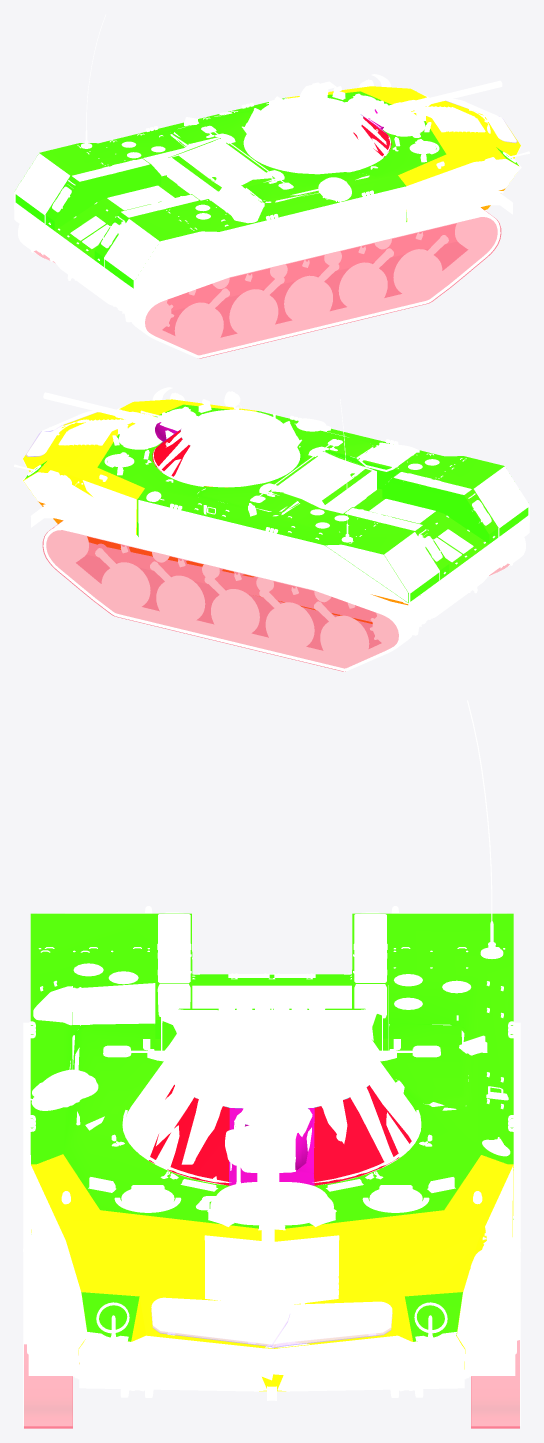
Rendered from BMD1M.gltf.
3 renders of one model, top to bottom at view 1: azimuth 30°, elevation 25°; view 2: azimuth 150°, elevation 25°; view 3: azimuth 270°, elevation 25°, orthographic. The views are drawn at different scales.
Parts seen in each view (by area): view 1: 43, 43_1, bmd1m_track_col_Right_41, bmd1m_col, 43_2, 43_6, bmd1m_col_1, 43_8, 43_7; view 2: 43, 43_1, bmd1m_track_col_Left_44, bmd1m_col, 43_3, 43_6, bmd1m_col_1, 43_8, 43_7, bmd1m_col_2, bmd1m_turret_col_1; view 3: bmd1m_col, 43, bmd1m_col_1, 43_1, 43_6, bmd1m_turret_col_1, 43_8, 43_3, 43_2, 43_7, bmd1m_track_col_Left_44, bmd1m_track_col_Right_41 (+1 smaller).
Boxes of the visible parts, x1,y1,x2,y2 form: 43: [14, 14, 521, 352]; 43_1: [14, 94, 520, 312]; bmd1m_track_col_Right_41: [145, 208, 501, 358]; bmd1m_col: [15, 91, 518, 288]; 43_2: [130, 207, 500, 358]; 43_6: [243, 81, 389, 174]; bmd1m_col_1: [286, 86, 520, 221]; 43_8: [366, 80, 502, 128]; 43_7: [242, 108, 284, 156]; 43: [22, 387, 529, 665]; 43_1: [23, 407, 529, 625]; bmd1m_track_col_Left_44: [42, 522, 398, 671]; bmd1m_col: [25, 404, 528, 602]; 43_3: [43, 520, 413, 671]; 43_6: [159, 391, 300, 487]; bmd1m_col_1: [23, 399, 257, 534]; 43_8: [43, 392, 181, 440]; 43_7: [259, 421, 301, 469]; bmd1m_col_2: [38, 501, 408, 623]; bmd1m_turret_col_1: [152, 430, 190, 476]; bmd1m_col: [30, 913, 513, 1341]; 43: [23, 700, 520, 1400]; bmd1m_col_1: [31, 1154, 513, 1391]; 43_1: [30, 913, 513, 1391]; 43_6: [125, 1018, 418, 1179]; bmd1m_turret_col_1: [149, 1085, 411, 1185]; 43_8: [225, 1124, 295, 1277]; 43_3: [471, 1022, 520, 1426]; 43_2: [23, 1022, 72, 1426]; 43_7: [215, 988, 328, 1027]; bmd1m_track_col_Left_44: [471, 1340, 519, 1428]; bmd1m_track_col_Right_41: [24, 1344, 72, 1428].
Bounding box in the file's own units: 5.41 × 3.08 × 2.67.
